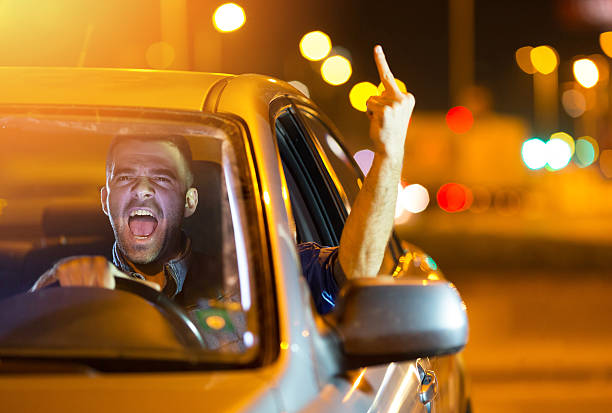insulting_gesture: (365, 40, 414, 153)
